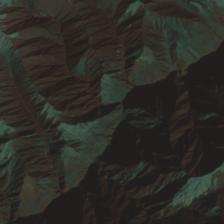landslides: (187, 47, 201, 61), (162, 18, 167, 38)
